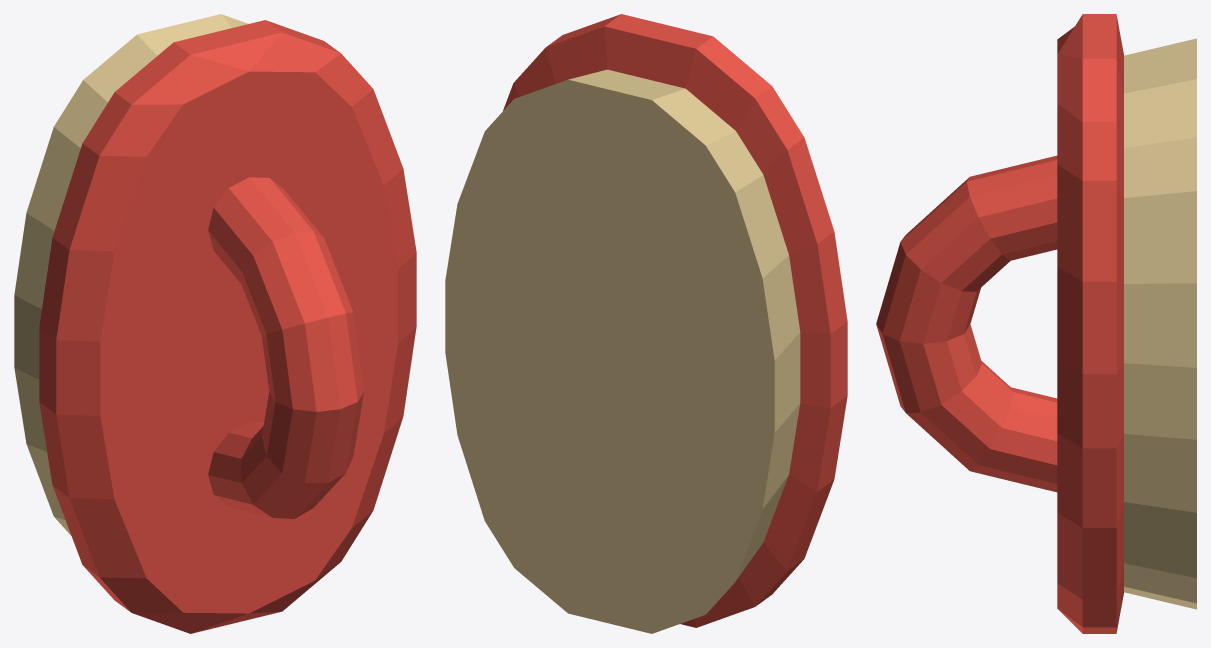
File: Brush.fbx
The picture shows the model from 3 angles, left to right: view 1: azimuth 30°, elevation 25°; view 2: azimuth 150°, elevation 25°; view 3: azimuth 270°, elevation 25°; orthographic projection.
Visible parts, largest first — view 1: brush; view 2: brush; view 3: brush.
Boxes of the visible parts, x1=… form: brush: x1=14, y1=14, x2=416, y2=633; brush: x1=445, y1=14, x2=847, y2=633; brush: x1=876, y1=14, x2=1196, y2=633.
Bounding box in the file's own units: 447 × 687 × 347.
